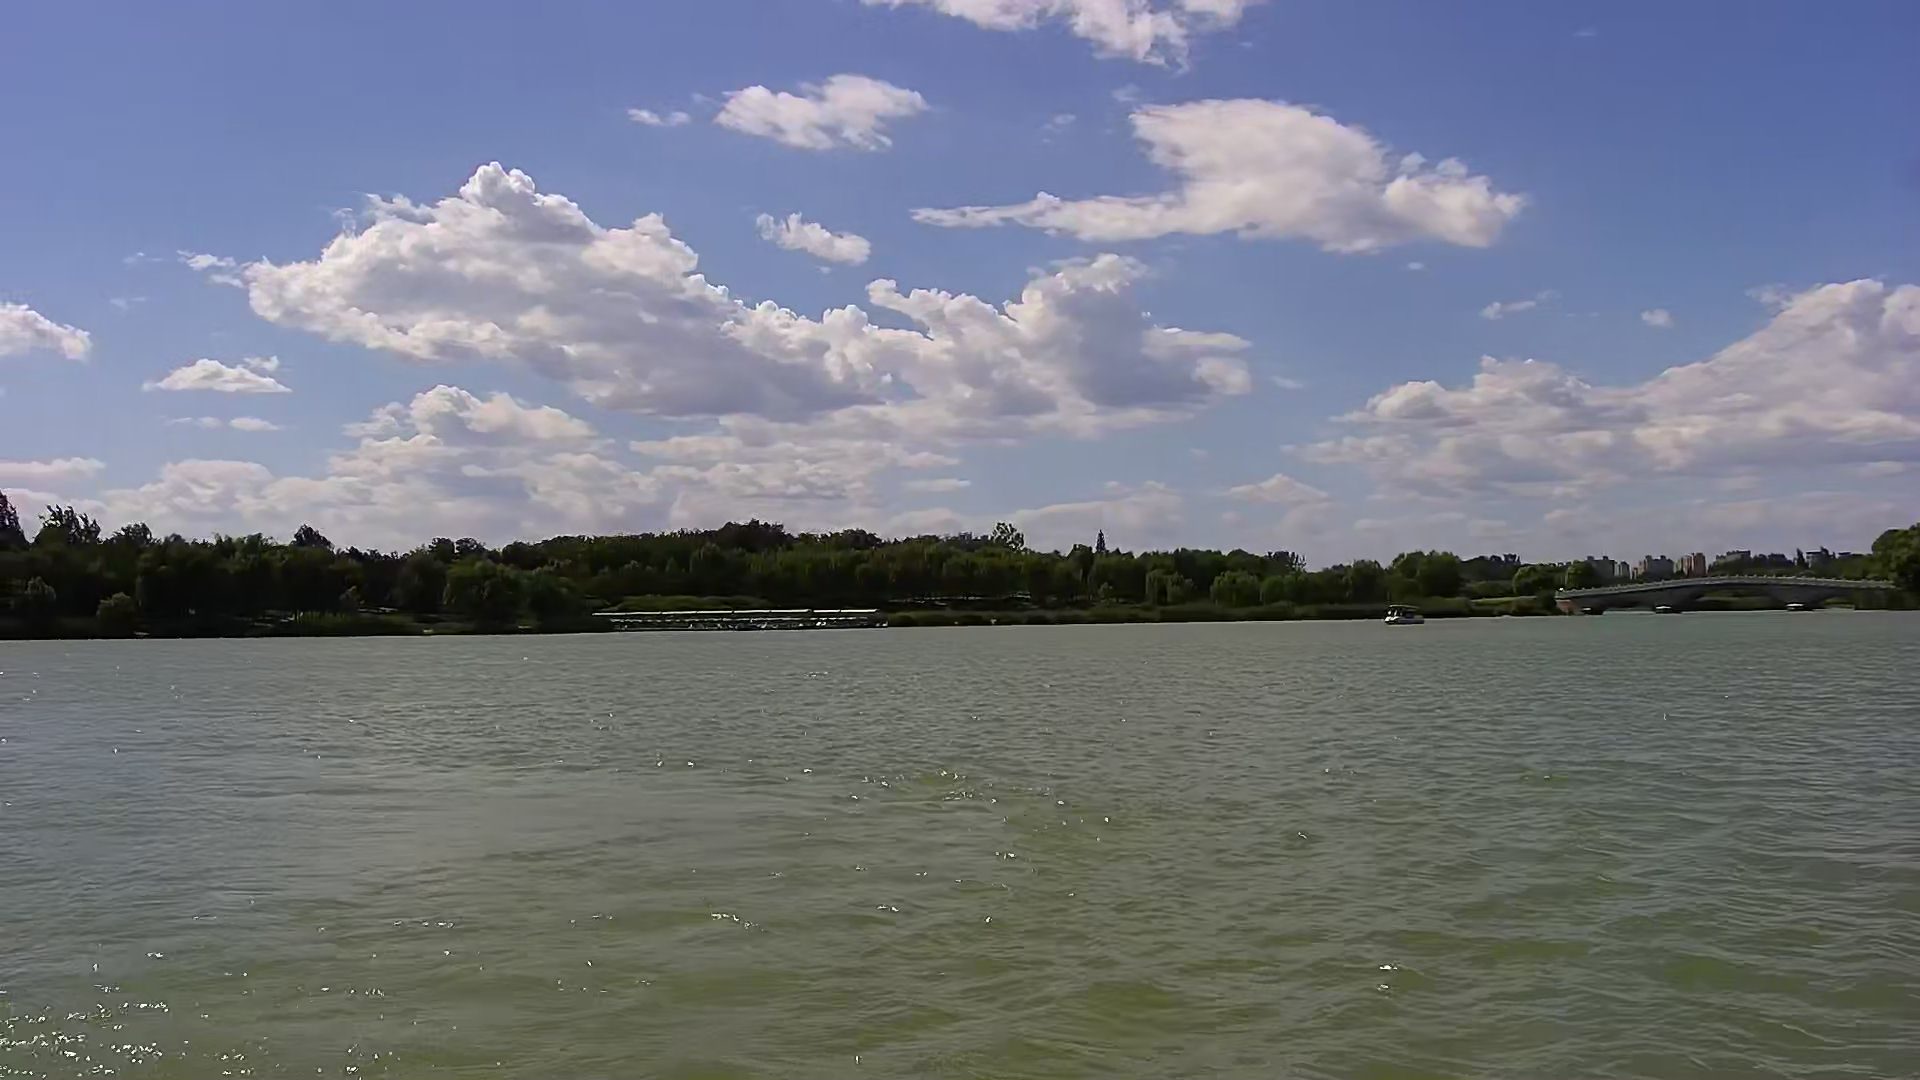boat: (1387, 603, 1425, 625)
bridge: (1557, 578, 1880, 615), (591, 607, 881, 632)
